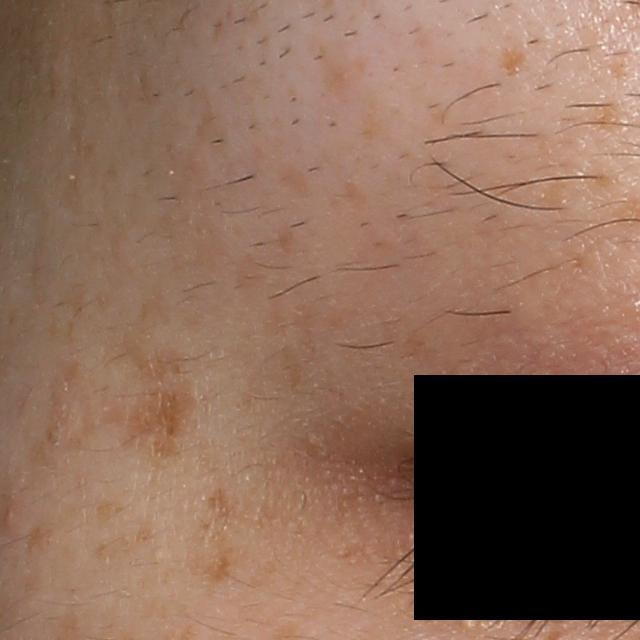melasma: (61, 338, 215, 470), (320, 49, 373, 97), (17, 516, 53, 558), (206, 486, 236, 534), (592, 96, 625, 132), (93, 498, 129, 528), (496, 45, 524, 77)
